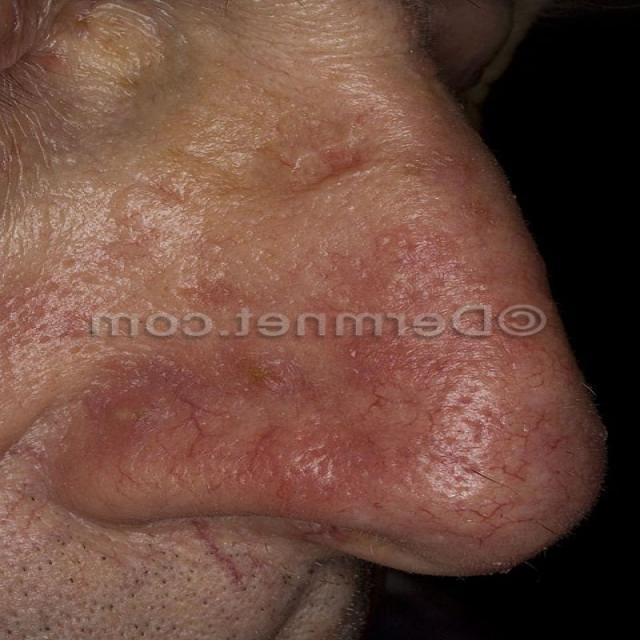images: (0, 0, 614, 639)
